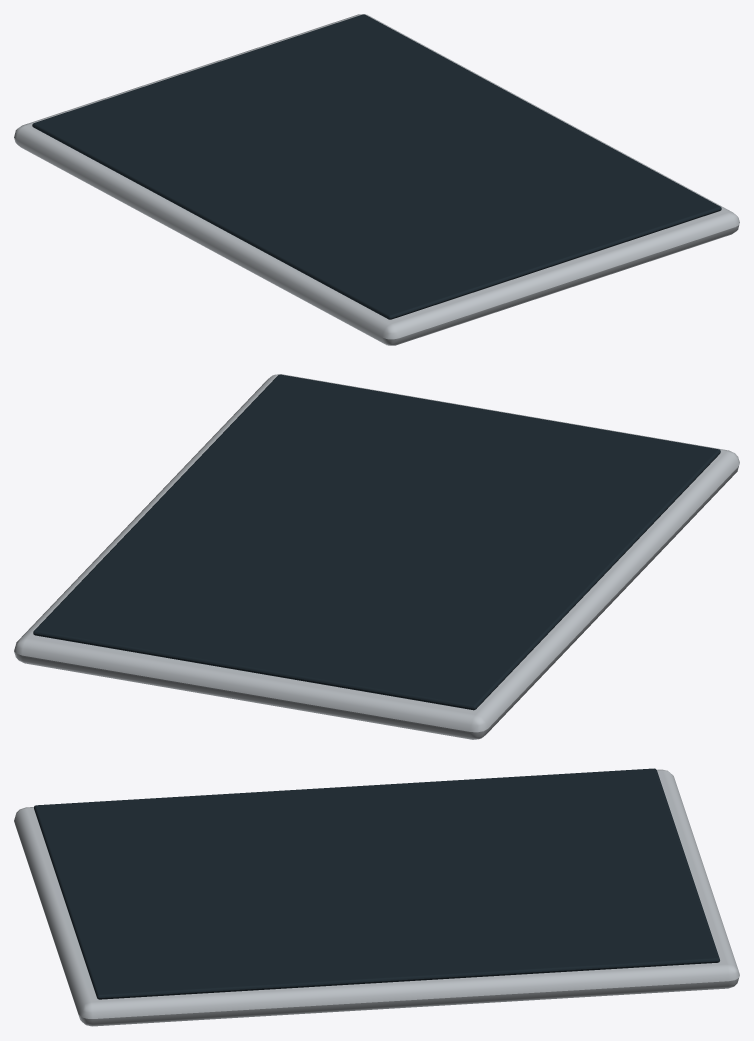
The model's file is hi3d-tablet_1.glb.
3 views of the same model, one above another, from view 1: azimuth 30°, elevation 25°; view 2: azimuth 150°, elevation 25°; view 3: azimuth 270°, elevation 25° (orthographic). The views are drawn at different scales.
Parts seen in each view (by area): view 1: tablet_mesh; view 2: tablet_mesh; view 3: tablet_mesh.
Boxes of the visible parts, <box> form: tablet_mesh: <box>14,14,739,345</box>; tablet_mesh: <box>14,374,739,739</box>; tablet_mesh: <box>14,768,739,1026</box>.
Size of the model in its own units: 0.223 by 0.012 by 0.2826.
